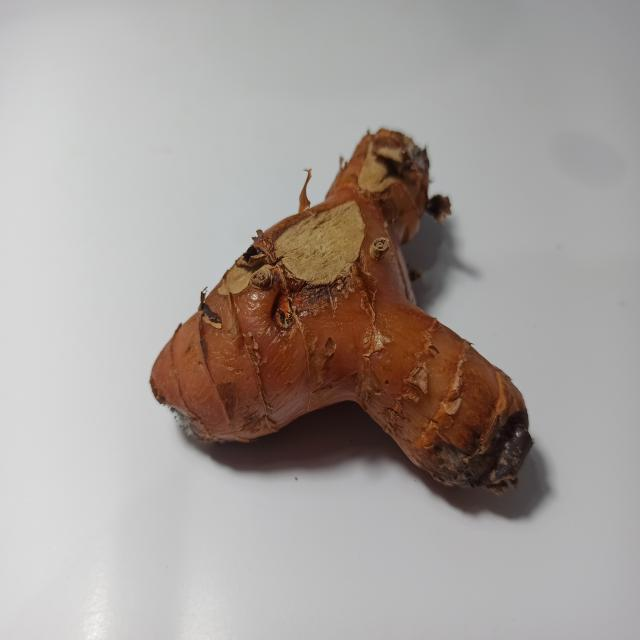ginger: (150, 133, 532, 474)
